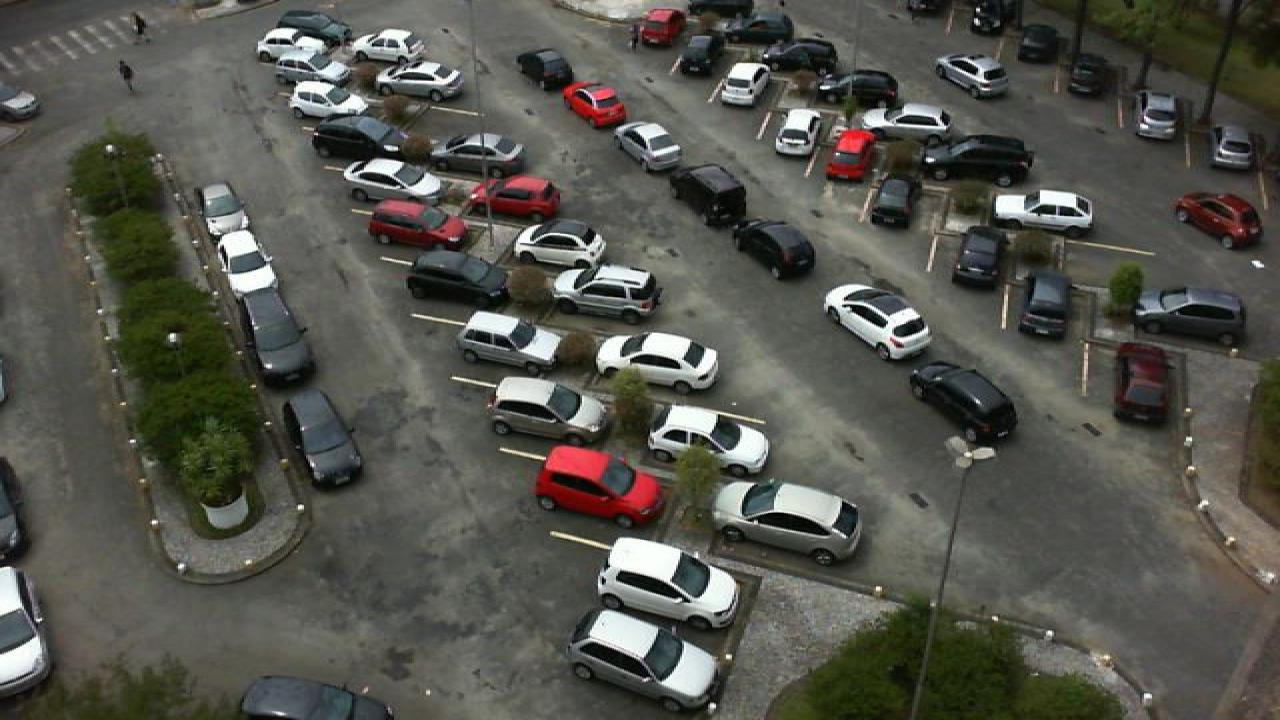Car: (566, 608, 724, 712), (594, 537, 742, 630), (710, 478, 868, 564), (532, 444, 668, 529), (644, 402, 772, 477), (908, 361, 1020, 443), (820, 281, 934, 360), (486, 374, 614, 444), (238, 286, 316, 384), (286, 391, 364, 488), (594, 331, 720, 390), (1130, 286, 1250, 346), (454, 310, 566, 373), (554, 264, 664, 320), (404, 248, 514, 301), (920, 134, 1032, 184), (1172, 190, 1264, 250), (732, 219, 816, 282), (368, 199, 468, 250), (510, 219, 608, 271), (310, 115, 416, 163), (670, 163, 748, 228), (340, 156, 442, 205), (1114, 341, 1174, 424), (990, 189, 1094, 232), (216, 229, 280, 297), (468, 175, 564, 220), (264, 45, 358, 89), (950, 223, 1010, 289), (612, 122, 684, 173), (428, 148, 526, 185), (1020, 270, 1074, 336), (868, 160, 920, 228), (374, 61, 464, 100), (936, 53, 1010, 99), (860, 104, 952, 140), (288, 81, 370, 120), (562, 81, 628, 128), (200, 182, 252, 238), (826, 126, 876, 181), (348, 28, 424, 64), (764, 38, 836, 73), (254, 26, 328, 60), (772, 108, 822, 156), (280, 9, 350, 43), (516, 47, 574, 88), (818, 68, 872, 112), (718, 62, 770, 107), (1134, 89, 1178, 141), (1210, 125, 1256, 174), (676, 32, 724, 76), (630, 9, 684, 47), (726, 15, 794, 45), (1068, 52, 1114, 96), (1018, 24, 1060, 62), (970, 0, 1016, 33)
